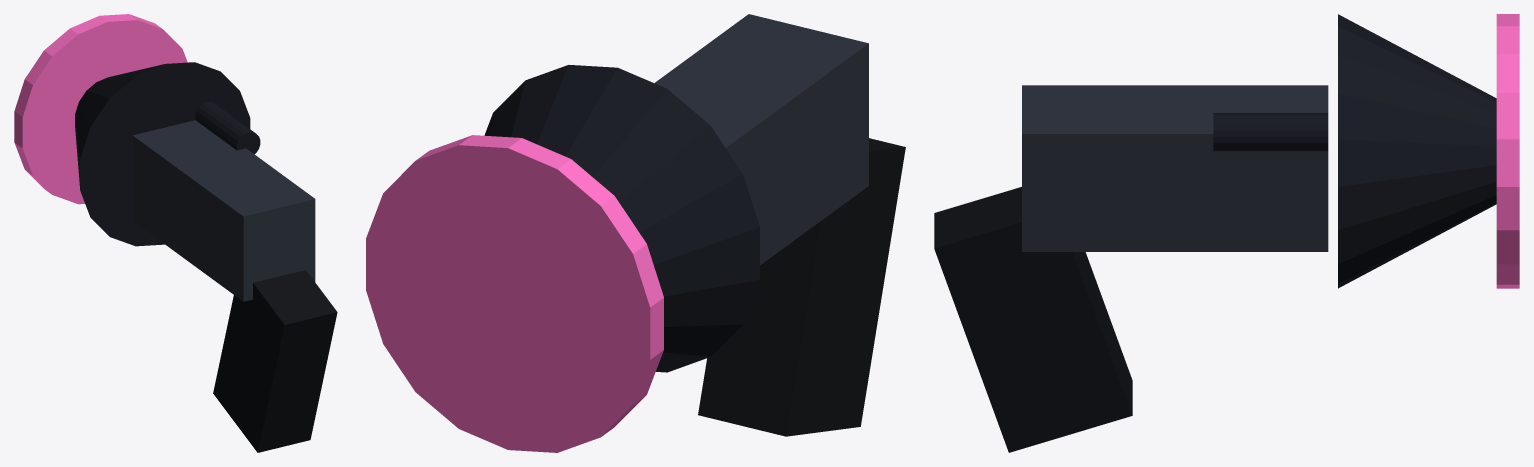
The model's file is wobble.glb.
3 renders of one model, left to right at view 1: azimuth 30°, elevation 25°; view 2: azimuth 150°, elevation 25°; view 3: azimuth 270°, elevation 25°, orthographic. The views are drawn at different scales.
Visible parts, largest first — view 1: Cube, Cube.001, Cone, Cylinder, Cylinder.001; view 2: Cylinder, Cone, Cube.001, Cube; view 3: Cube, Cube.001, Cone, Cylinder, Cylinder.001.
Boxes of the visible parts, left/top/right/bottom form: Cube: left=132, top=120, right=315, bottom=301; Cube.001: left=213, top=270, right=337, bottom=452; Cone: left=75, top=62, right=250, bottom=246; Cylinder: left=14, top=14, right=187, bottom=204; Cylinder.001: left=195, top=102, right=260, bottom=154; Cylinder: left=366, top=135, right=663, bottom=452; Cone: left=484, top=65, right=759, bottom=372; Cube.001: left=698, top=138, right=905, bottom=436; Cube: left=654, top=14, right=868, bottom=265; Cube: left=1022, top=85, right=1328, bottom=251; Cube.001: left=934, top=187, right=1132, bottom=452; Cone: left=1338, top=14, right=1496, bottom=288; Cylinder: left=1496, top=14, right=1519, bottom=288; Cylinder.001: left=1213, top=113, right=1328, bottom=151.
Size of the model in its own units: 0.7091 by 1.18 by 1.53.
